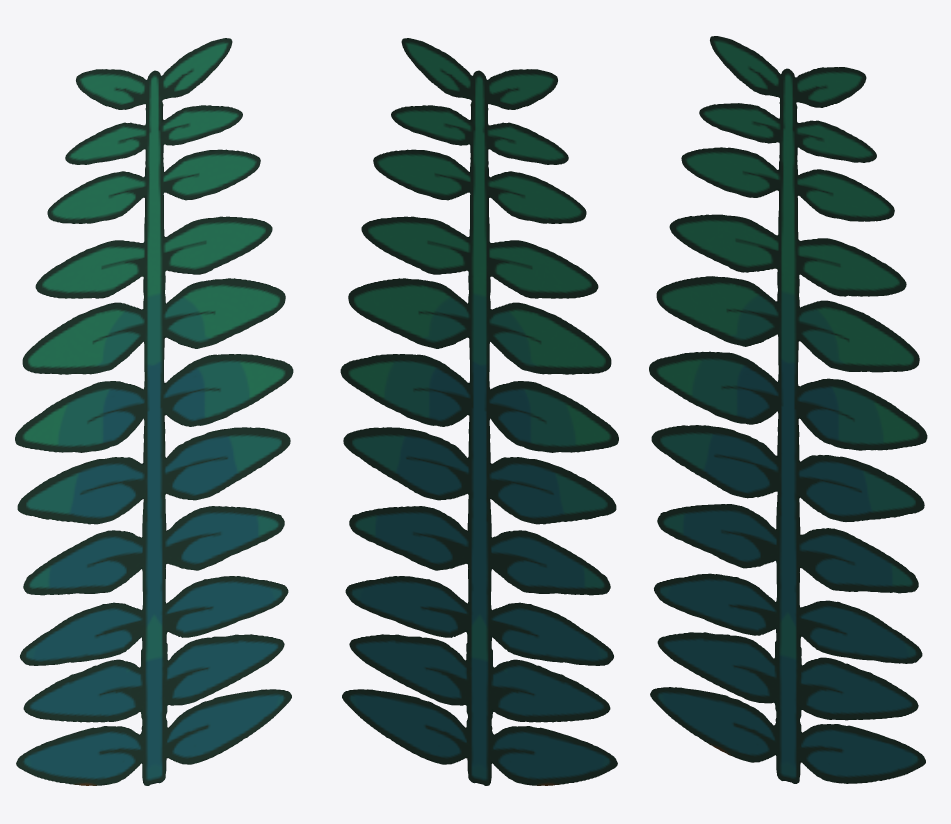
The model's file is HojaH.fbx.
3 views of the same model, side by side, from view 1: azimuth 30°, elevation 25°; view 2: azimuth 150°, elevation 25°; view 3: azimuth 330°, elevation 25° (orthographic).
Visible parts, largest first — view 1: HojaH; view 2: HojaH; view 3: HojaH.
Part boxes in pixels (bbox=[...]): HojaH: bbox=[15, 38, 293, 785]; HojaH: bbox=[340, 38, 618, 785]; HojaH: bbox=[649, 36, 927, 783].
Bounding box in the file's own units: 0.4375 × 1.07 × 4.66e-08.
